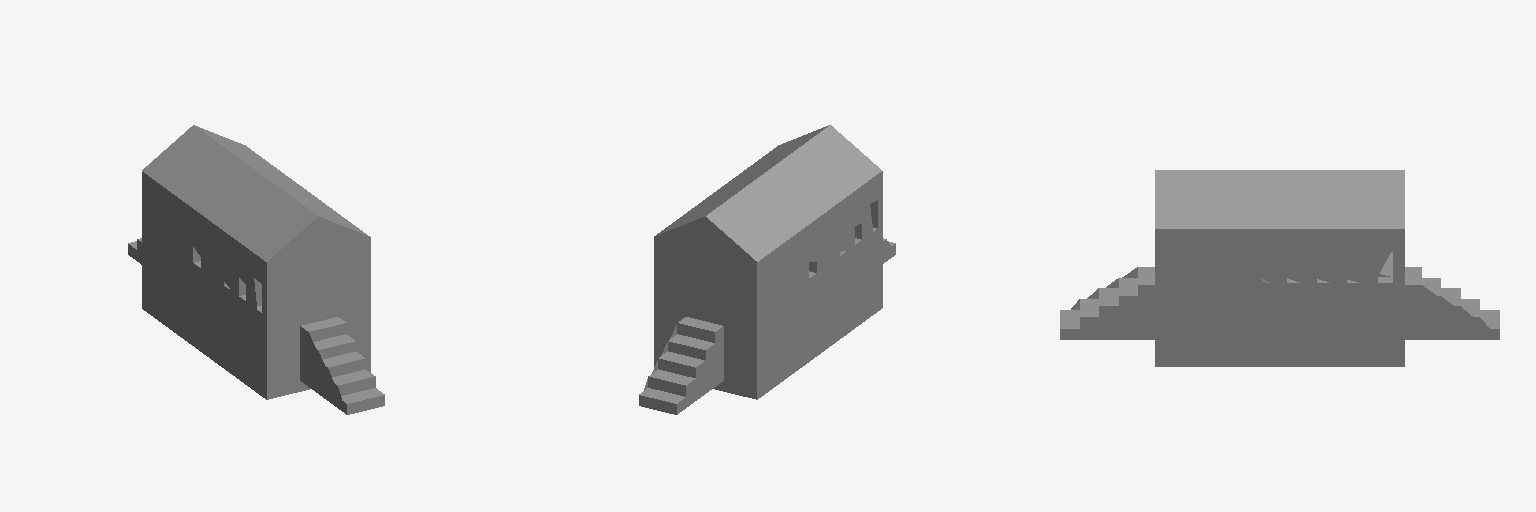
Rendered from bridge4.obj.
3 renders of one model, left to right at view 1: azimuth 30°, elevation 25°; view 2: azimuth 150°, elevation 25°; view 3: azimuth 270°, elevation 25°, orthographic.
Visible parts, largest first — view 1: Cube.000_Cube.002; view 2: Cube.000_Cube.002; view 3: Cube.000_Cube.002.
Boxes of the visible parts, <box> form: Cube.000_Cube.002: <box>128,125,384,414</box>; Cube.000_Cube.002: <box>639,125,895,414</box>; Cube.000_Cube.002: <box>1060,170,1499,366</box>.
Size of the model in its own units: 5.48 by 8.62 by 20.05.